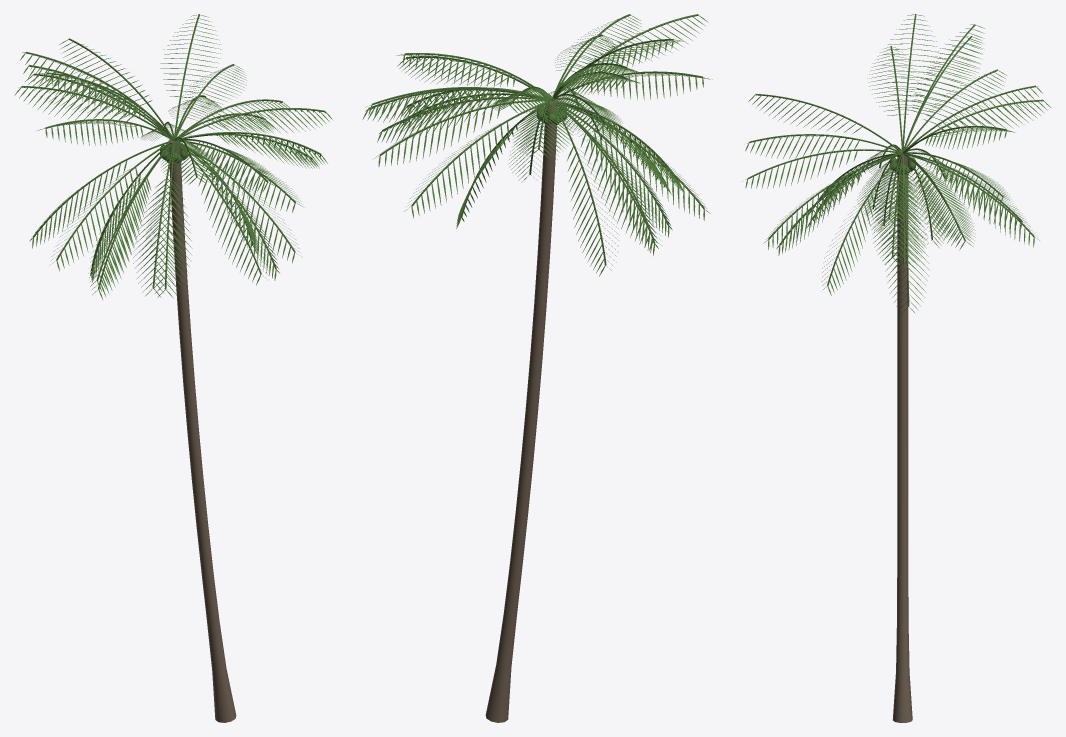
The model's file is coconut_palm.glb.
3 views of the same model, side by side, from view 1: azimuth 30°, elevation 25°; view 2: azimuth 150°, elevation 25°; view 3: azimuth 270°, elevation 25° (orthographic). The views are drawn at different scales.
Visible parts, largest first — view 1: coconut_palm; view 2: coconut_palm; view 3: coconut_palm.
Part boxes in pixels (x1=…): coconut_palm: x1=14, y1=14, x2=333, y2=722; coconut_palm: x1=362, y1=14, x2=712, y2=722; coconut_palm: x1=742, y1=14, x2=1050, y2=722.
Bounding box in the file's own units: 9.22 × 20.86 × 9.31.
